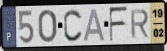5: (17, 9, 35, 45)
A: (83, 8, 107, 42)
C: (63, 8, 84, 43)
F: (109, 6, 129, 43)
O: (37, 9, 58, 44)
R: (129, 8, 150, 39)
